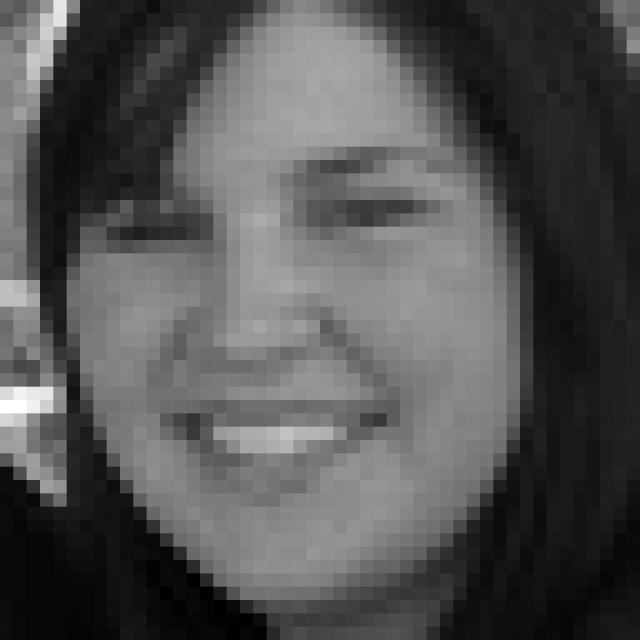happy: (93, 134, 466, 516)
